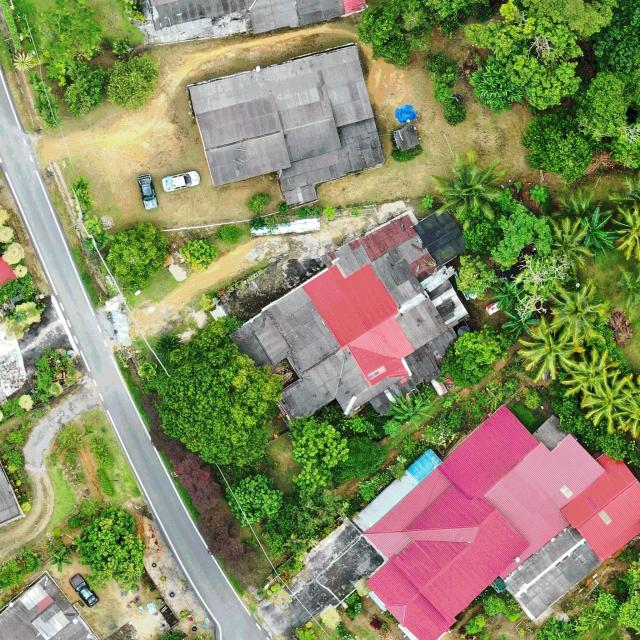Tree: (158, 342, 284, 464), (465, 0, 583, 112), (428, 147, 508, 226), (577, 70, 640, 168), (75, 506, 146, 582), (40, 0, 103, 85), (522, 111, 596, 182), (357, 0, 432, 67), (106, 220, 170, 293), (289, 416, 350, 492), (438, 322, 508, 388), (548, 278, 613, 345), (490, 201, 551, 271), (517, 315, 578, 382), (581, 370, 639, 433), (559, 347, 621, 402), (467, 54, 522, 115), (223, 473, 284, 526), (107, 54, 160, 112), (550, 215, 594, 277), (62, 61, 104, 118), (453, 250, 499, 300), (385, 388, 436, 428), (552, 187, 602, 222), (611, 202, 640, 262), (585, 207, 617, 256), (461, 221, 499, 255), (489, 278, 524, 314), (179, 237, 217, 270), (534, 615, 570, 640), (155, 333, 184, 359), (482, 594, 506, 618), (49, 547, 72, 572), (246, 191, 270, 213), (466, 614, 488, 637), (217, 223, 241, 244), (71, 534, 91, 553), (322, 203, 337, 220)
